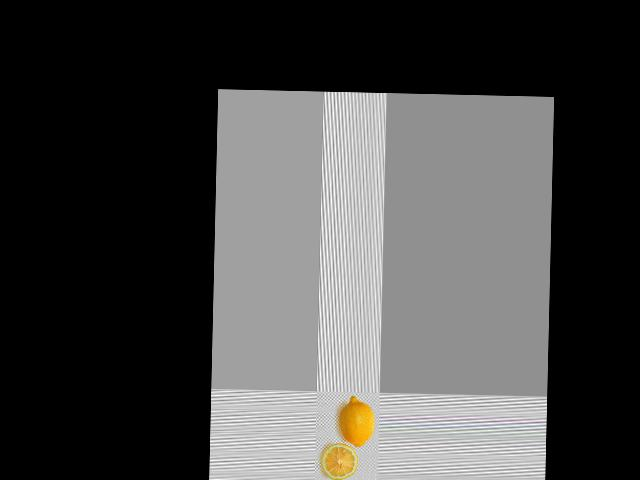lemon: (340, 396, 378, 452)
